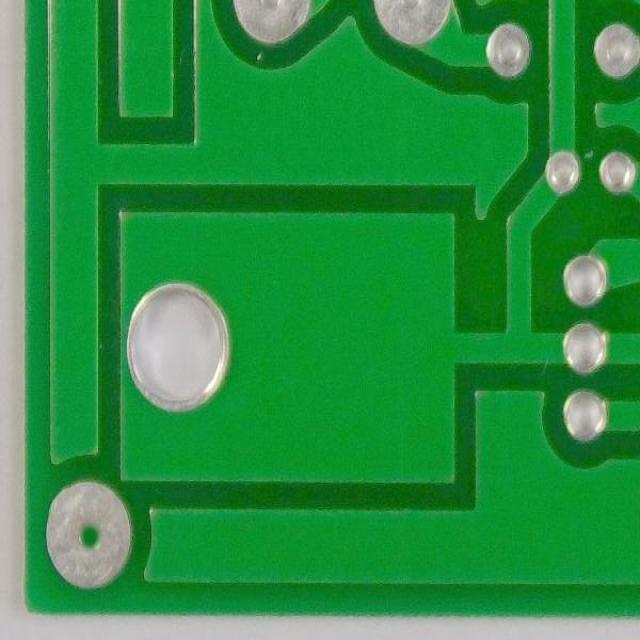missing hole: (36, 476, 141, 593)
